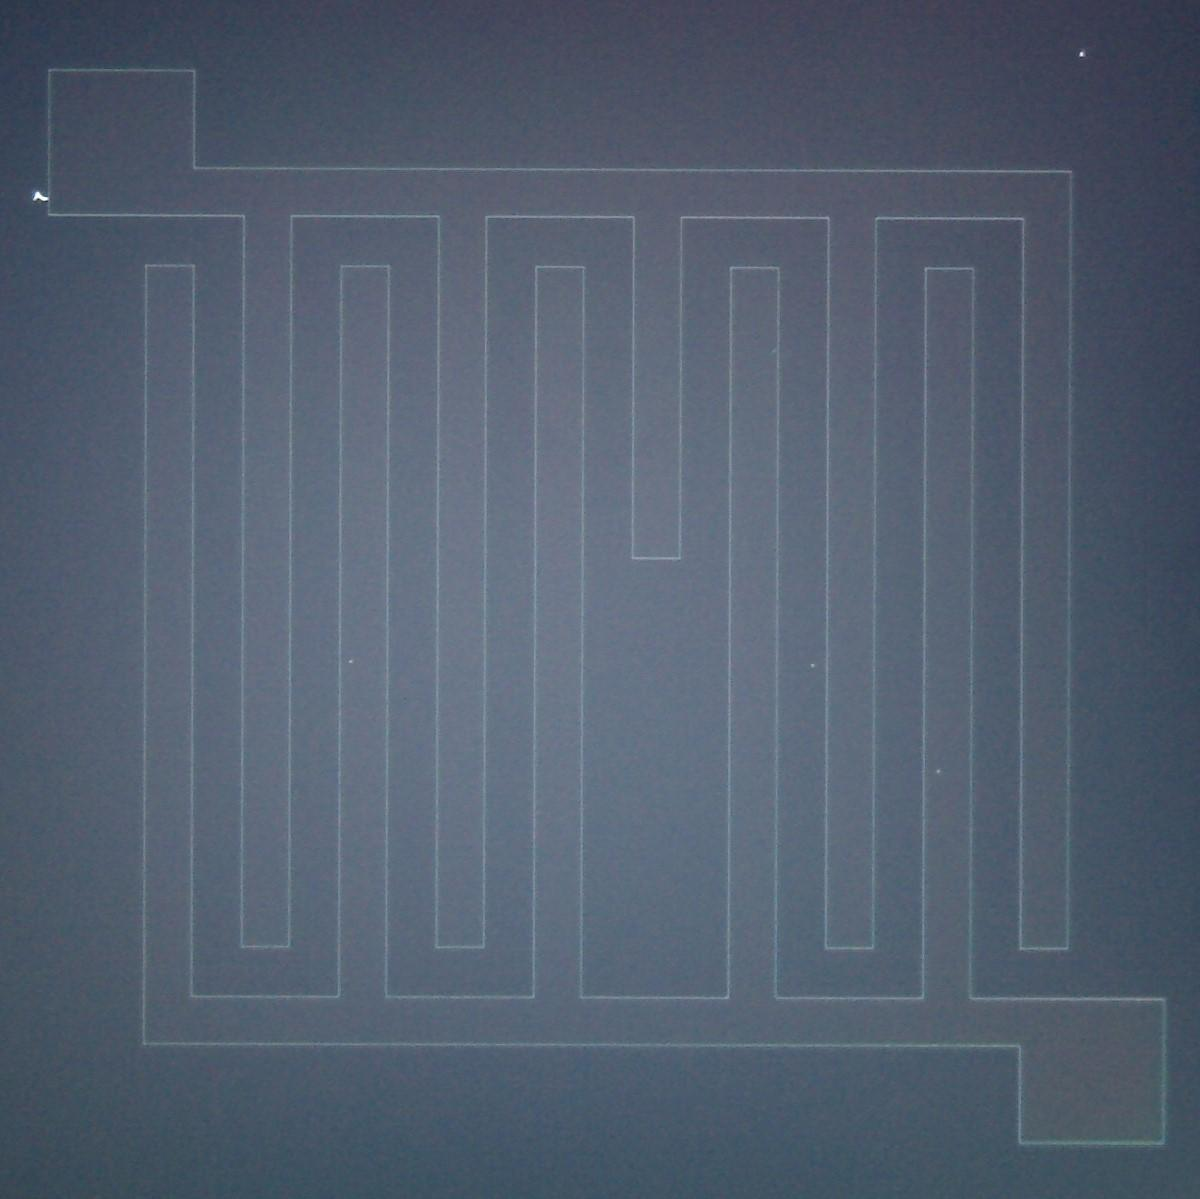B_point: (31, 187, 51, 208)
s_point: (345, 654, 358, 669), (932, 765, 945, 778), (1075, 48, 1088, 61), (807, 660, 819, 673), (769, 345, 781, 358)
short: (565, 154, 755, 1015)
